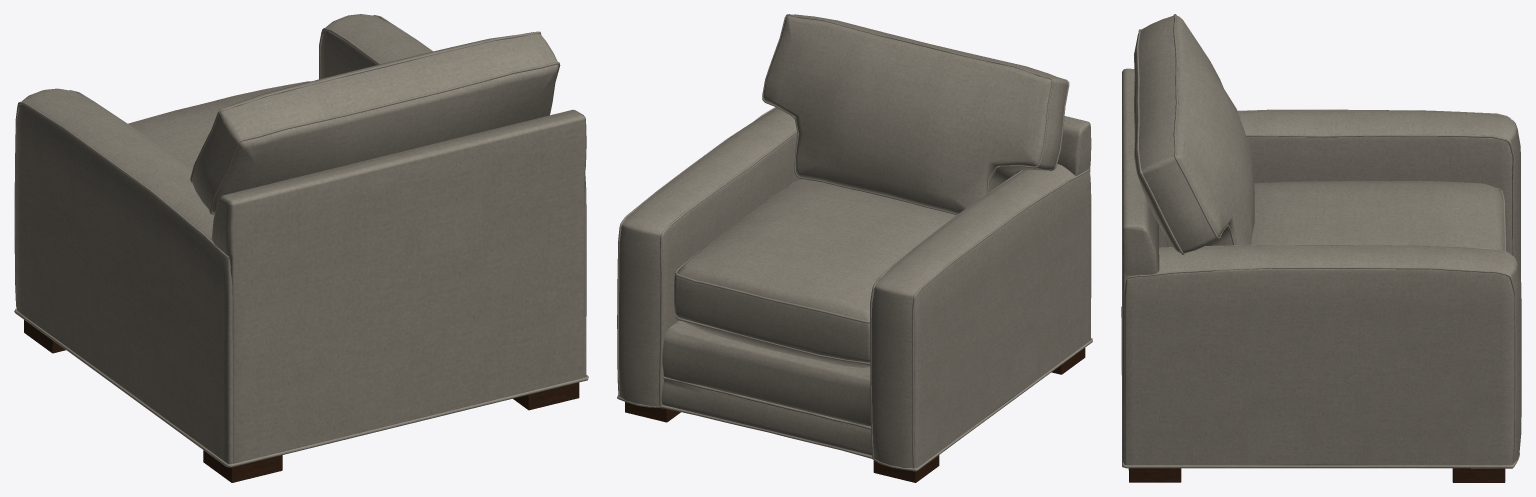
Rendered from abo_B071J7Q39G.glb.
3 views of the same model, side by side, from view 1: azimuth 30°, elevation 25°; view 2: azimuth 150°, elevation 25°; view 3: azimuth 270°, elevation 25° (orthographic). The views are drawn at different scales.
Parts seen in each view (by area): view 1: RootNode; view 2: RootNode; view 3: RootNode.
Part boxes in pixels (x1,y1,x2,y2): RootNode: (14, 14, 588, 482); RootNode: (617, 14, 1092, 482); RootNode: (1121, 14, 1521, 482).
Bounding box in the file's own units: 0.9985 × 0.9342 × 1.04.
1 material, 1 textured.
